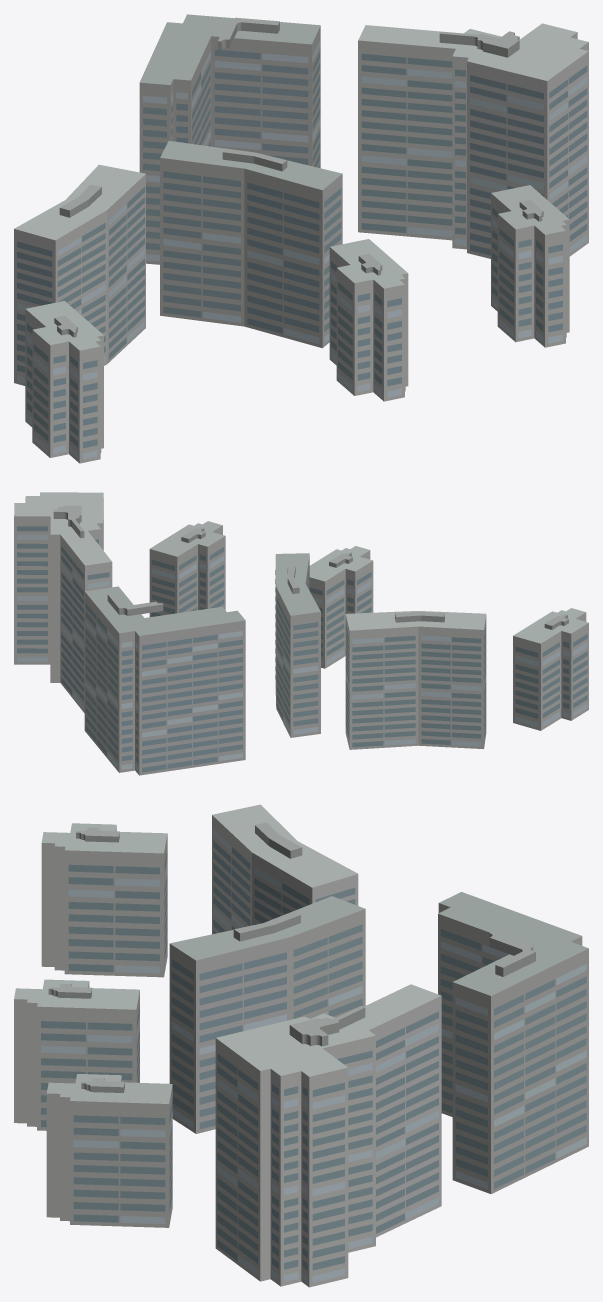
The model's file is apt-a13778207.glb.
3 views of the same model, one above another, from view 1: azimuth 30°, elevation 25°; view 2: azimuth 150°, elevation 25°; view 3: azimuth 270°, elevation 25° (orthographic). The views are drawn at different scales.
Visible parts, largest first — view 1: apt-a13778207; view 2: apt-a13778207; view 3: apt-a13778207.
Boxes of the visible parts, x1,y1,x2,y2 form: apt-a13778207: (14, 14, 588, 463); apt-a13778207: (14, 492, 588, 775); apt-a13778207: (14, 804, 588, 1287).
Bounding box in the file's own units: 169 × 51 × 121.
